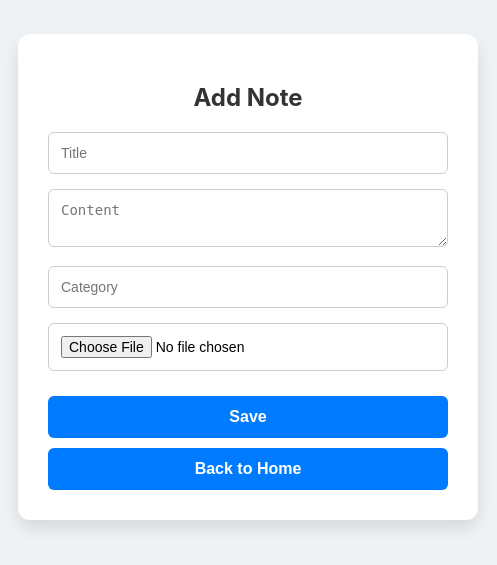
it: AddNote Component › handles form submission failure
This screenshot has width=497, height=565.
// Fill in the form fields
In the field with placeholder "Title": [248, 154] box x1=48 y1=132 x2=448 y2=174, type "Test Title"
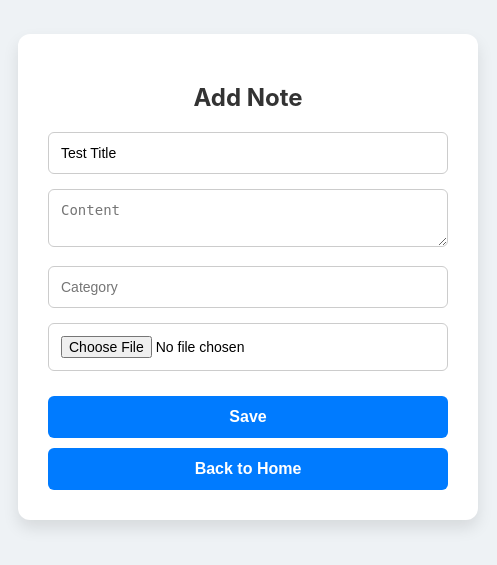
In the text box with placeholder "Content": [248, 218] box x1=48 y1=190 x2=448 y2=248, type "Test Content"
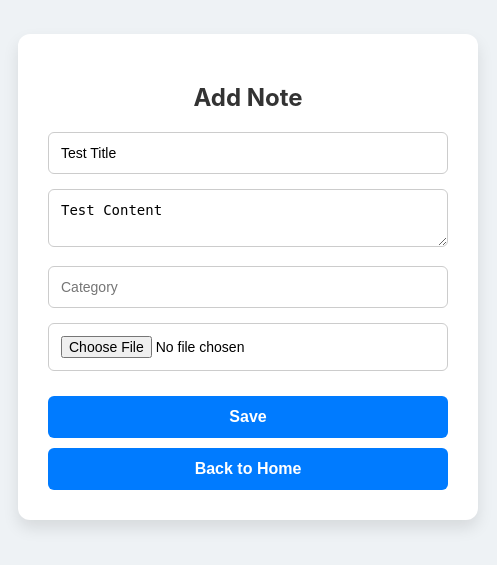
In the field with placeholder "Category": [248, 288] box x1=48 y1=266 x2=448 y2=308, type "Test Category"
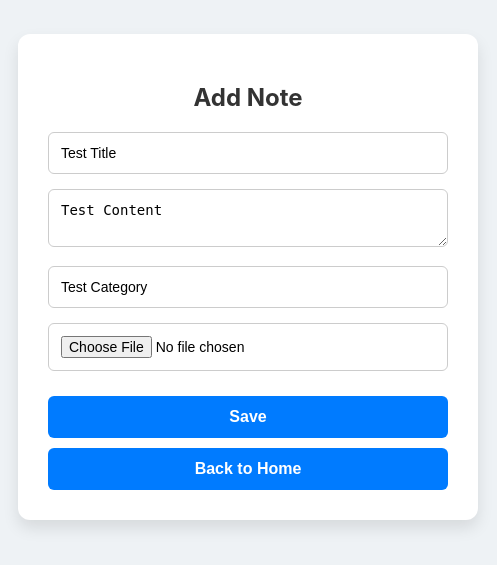
// Click on the "Save" button
Click the button "Save": [248, 418] box x1=48 y1=396 x2=448 y2=438
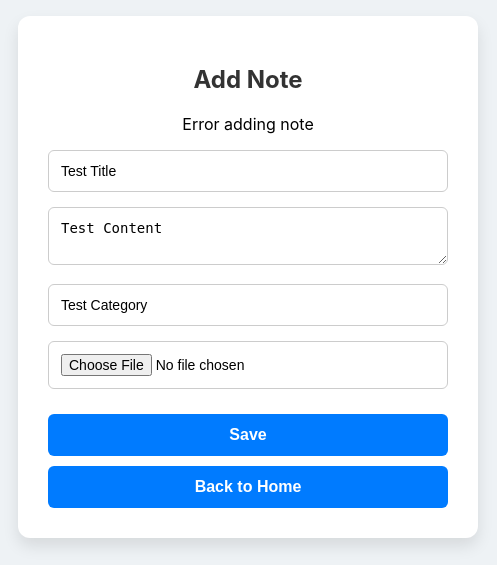
Now the text "Error adding note" is shown, box x1=182 y1=114 x2=314 y2=134
